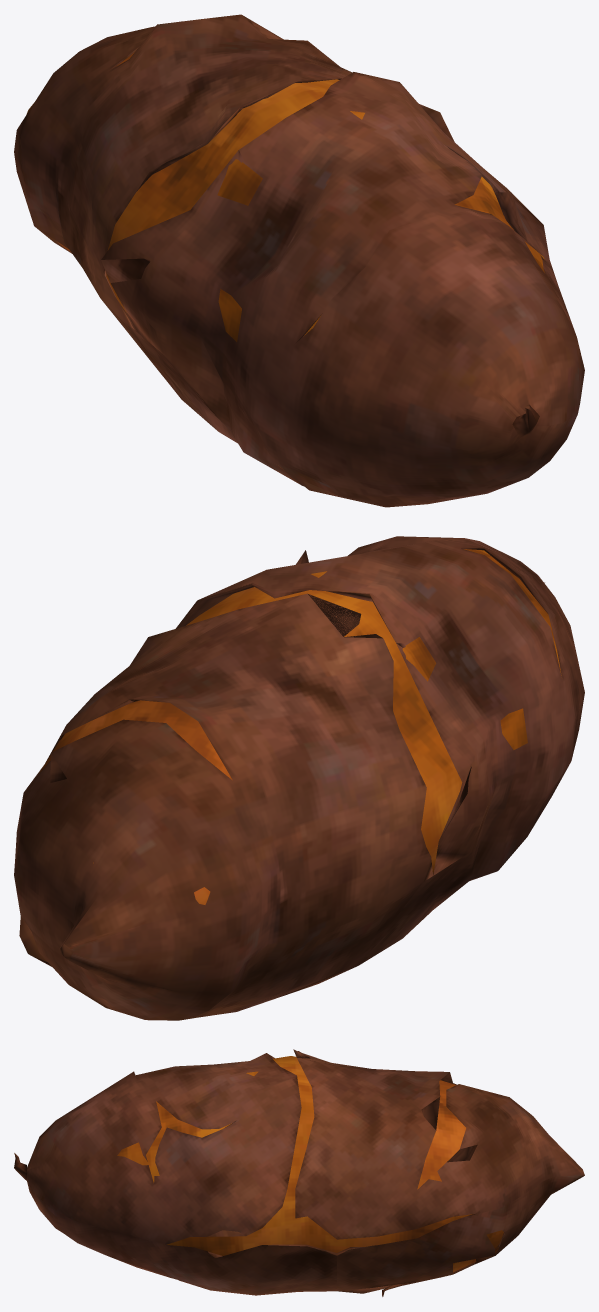
Rendered from ref_bbqpotato.glb.
3 views of the same model, one above another, from view 1: azimuth 30°, elevation 25°; view 2: azimuth 150°, elevation 25°; view 3: azimuth 270°, elevation 25° (orthographic). The views are drawn at different scales.
Visible parts, largest first — view 1: ref_bbqpotato; view 2: ref_bbqpotato; view 3: ref_bbqpotato.
Part boxes in pixels (left/top/right/bottom): ref_bbqpotato: left=14, top=14, right=584, bottom=507; ref_bbqpotato: left=14, top=536, right=584, bottom=1020; ref_bbqpotato: left=14, top=1049, right=584, bottom=1296.
Bounding box in the file's own units: 0.4556 × 0.4289 × 1.
1 material, 1 textured.
